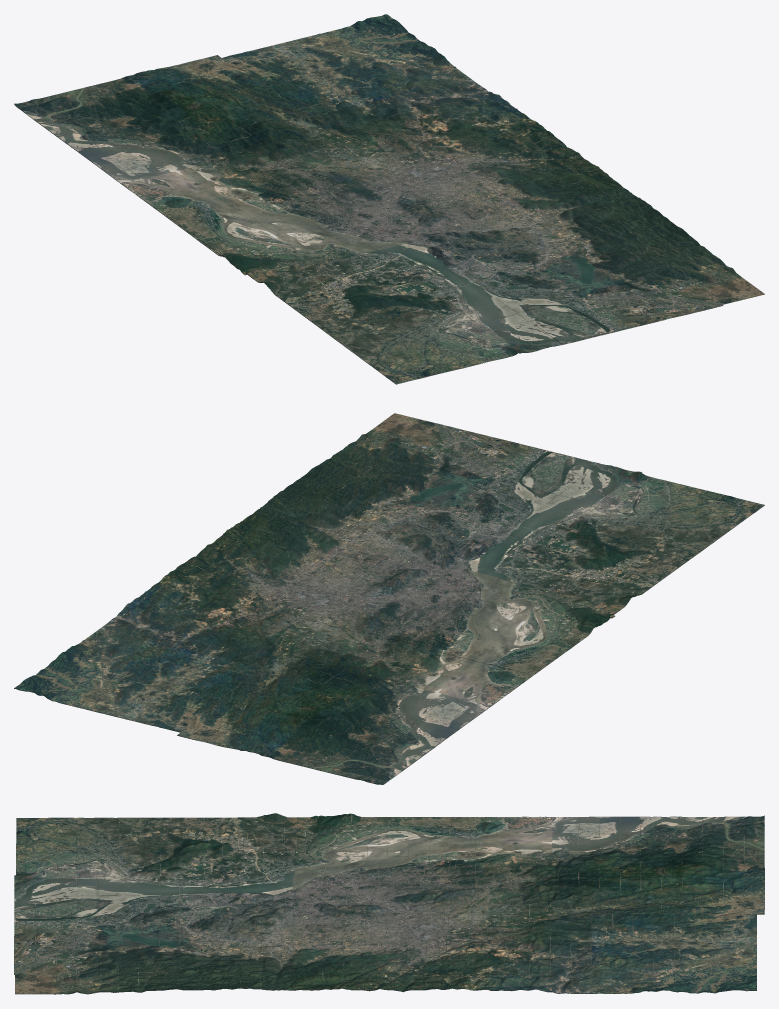
Rendered from cleanester.glb.
3 renders of one model, top to bottom at view 1: azimuth 30°, elevation 25°; view 2: azimuth 150°, elevation 25°; view 3: azimuth 270°, elevation 25°, orthographic. The views are drawn at different scales.
Visible parts, largest first — view 1: BuildingMesh-00001003; view 2: BuildingMesh-00001003; view 3: BuildingMesh-00001003.
Part boxes in pixels (box(x1,y1,x2,y2)): BuildingMesh-00001003: box(14, 14, 764, 384); BuildingMesh-00001003: box(14, 413, 764, 784); BuildingMesh-00001003: box(14, 813, 764, 994).
Bounding box in the file's own units: 8.8 × 0.2337 × 15.75.
1 material, 1 textured.
